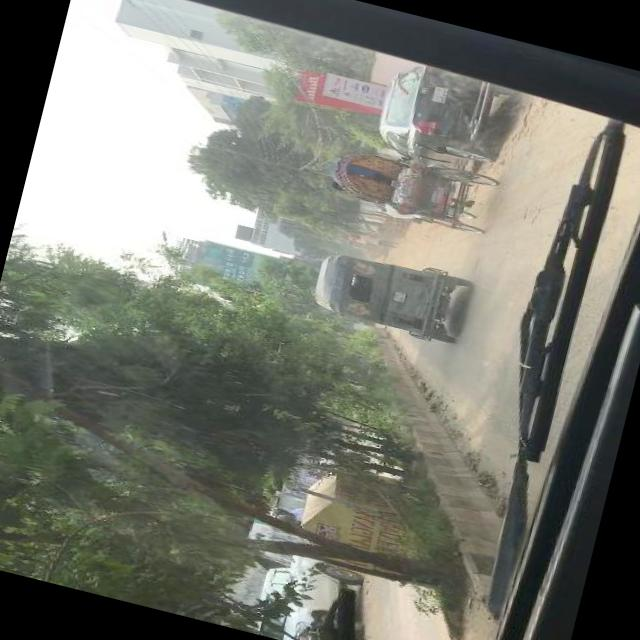car: (371, 54, 509, 175)
motorcycle: (323, 136, 499, 235), (307, 240, 468, 344)
truck: (249, 539, 365, 640)
